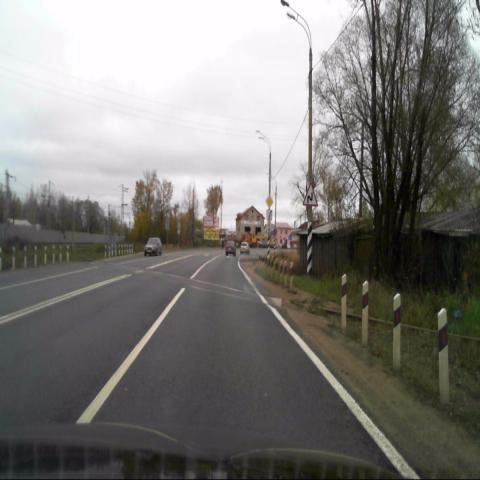1_12: (303, 182, 317, 207)
